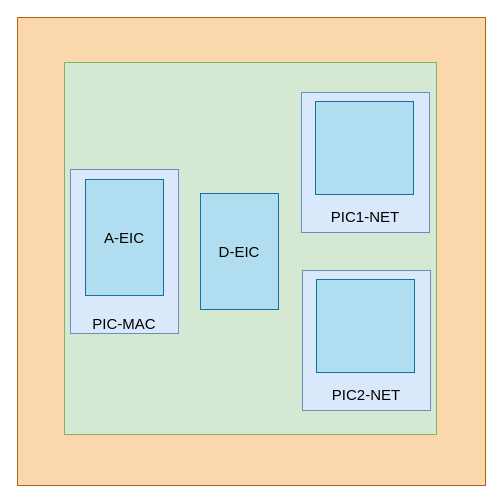
The diagram is 503 pixels wide and 503 high, and some of its shapes have lost their labels. Here are the shapes that lost their labels. From the top down, the centre of each, then its label:
(364,147): A-EIC1
(365,325): A-EIC2
